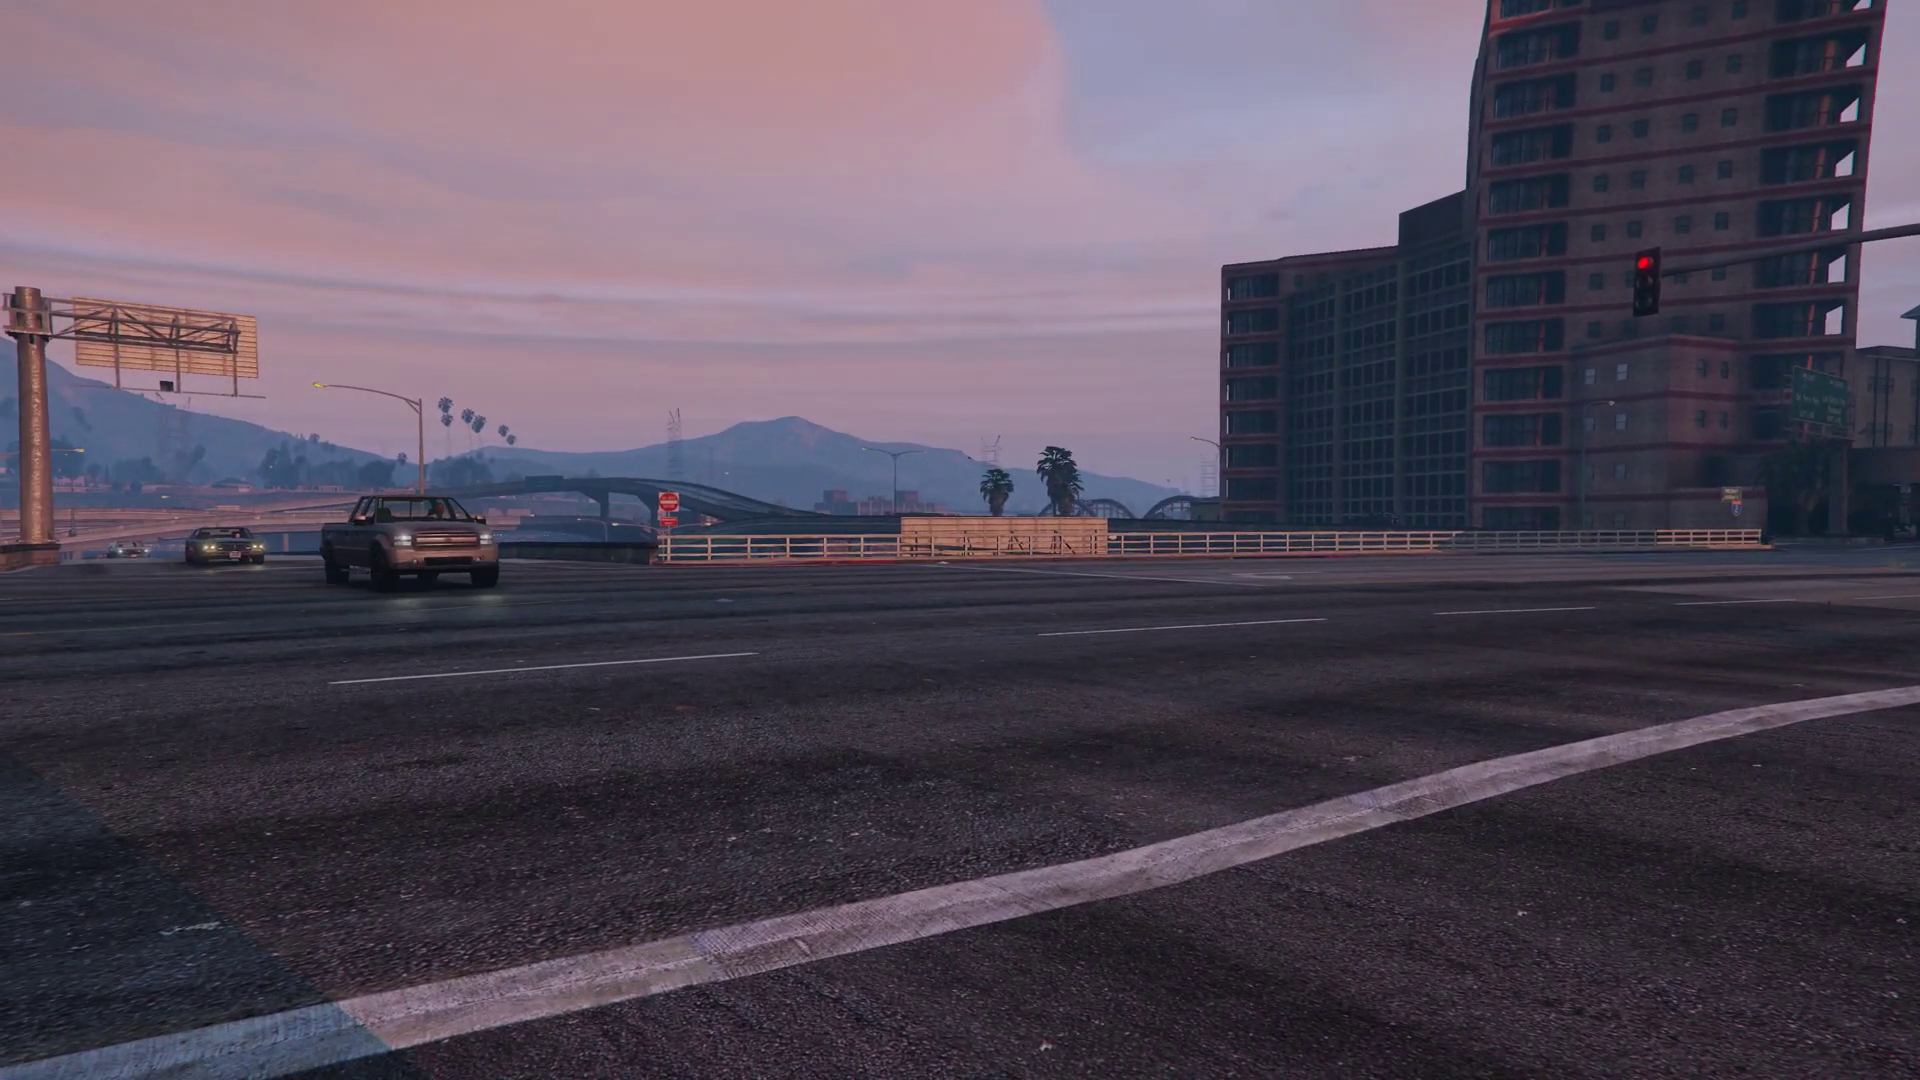car: (320, 495, 502, 588), (185, 526, 266, 568), (105, 539, 146, 559)
traffic light: (1633, 245, 1659, 318)
